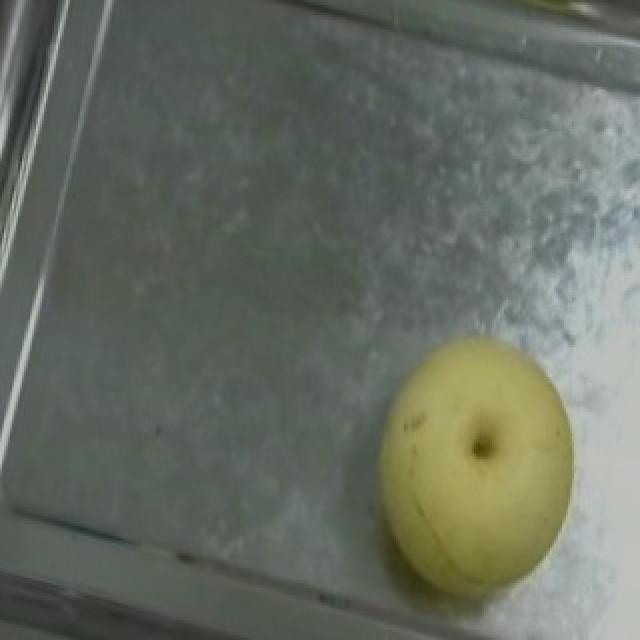Fruit: (328, 308, 610, 638)
